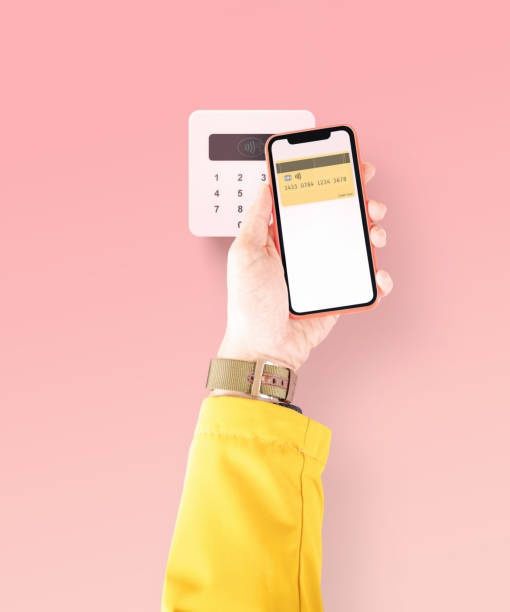phone: (263, 122, 380, 318)
